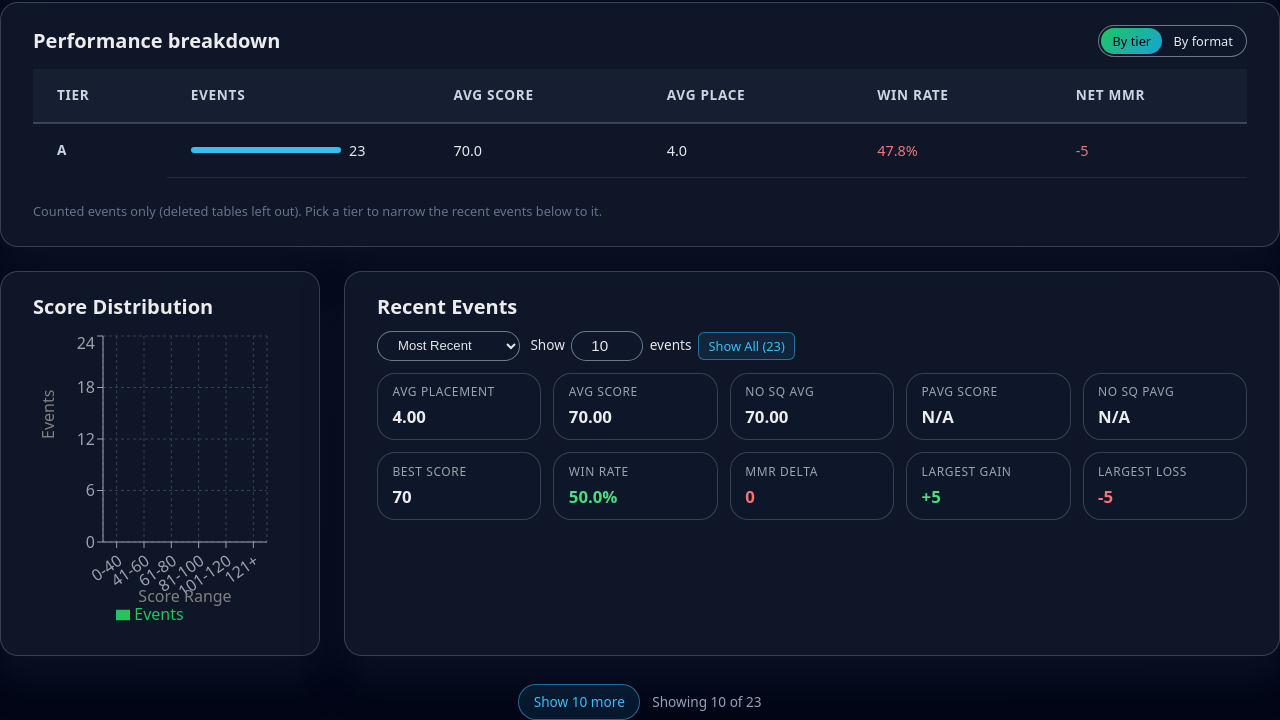
Test: PlayerDetailView show more events › adds 10 events at a time, then the remainder, then says there are no more
The image size is (1280, 720).
(page scrolled)
expect the text "Showing 10 of 23" is shown: met, box 652,692 -> 762,712
What coordinates should you click on to do the following:
click the button "Show 10 more"
I would click on:
 (579, 702)
Its box is 518,684 -> 640,719.
(page scrolled)
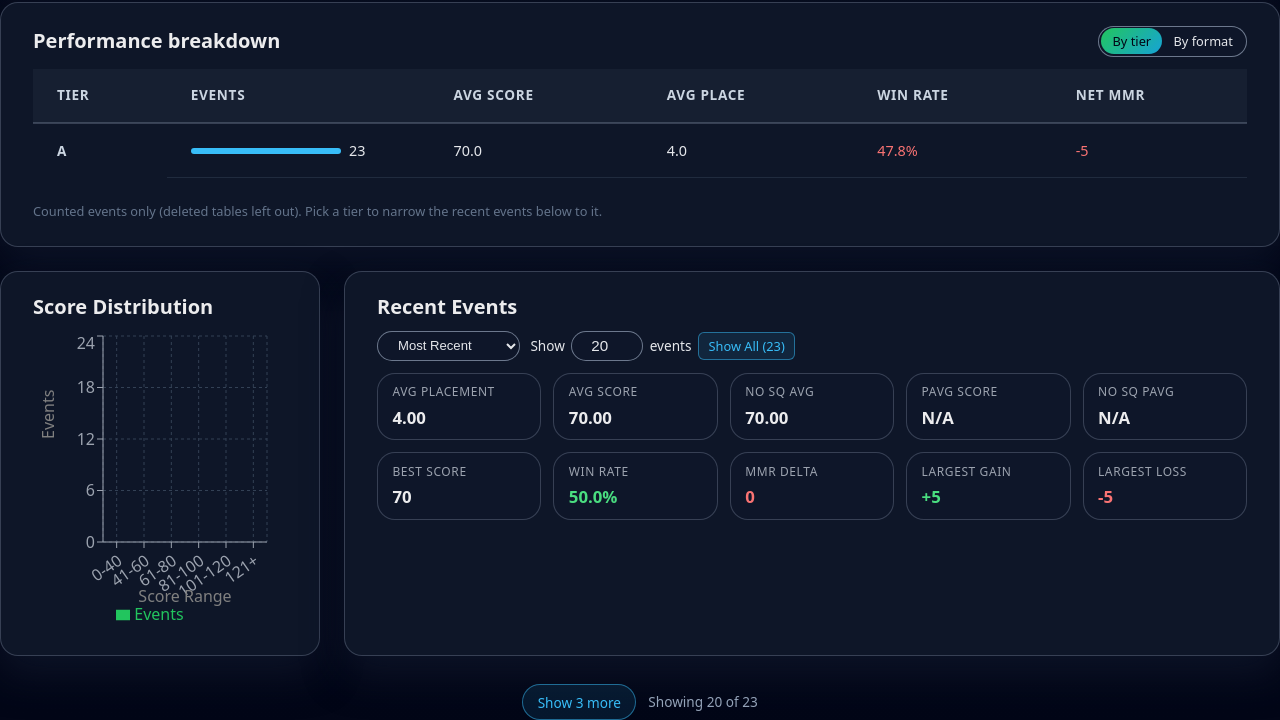
What coordinates should you click on to do the following:
click the button "Show 3 more"
I would click on:
 (579, 702)
Its box is 522,684 -> 636,719.
(page scrolled)
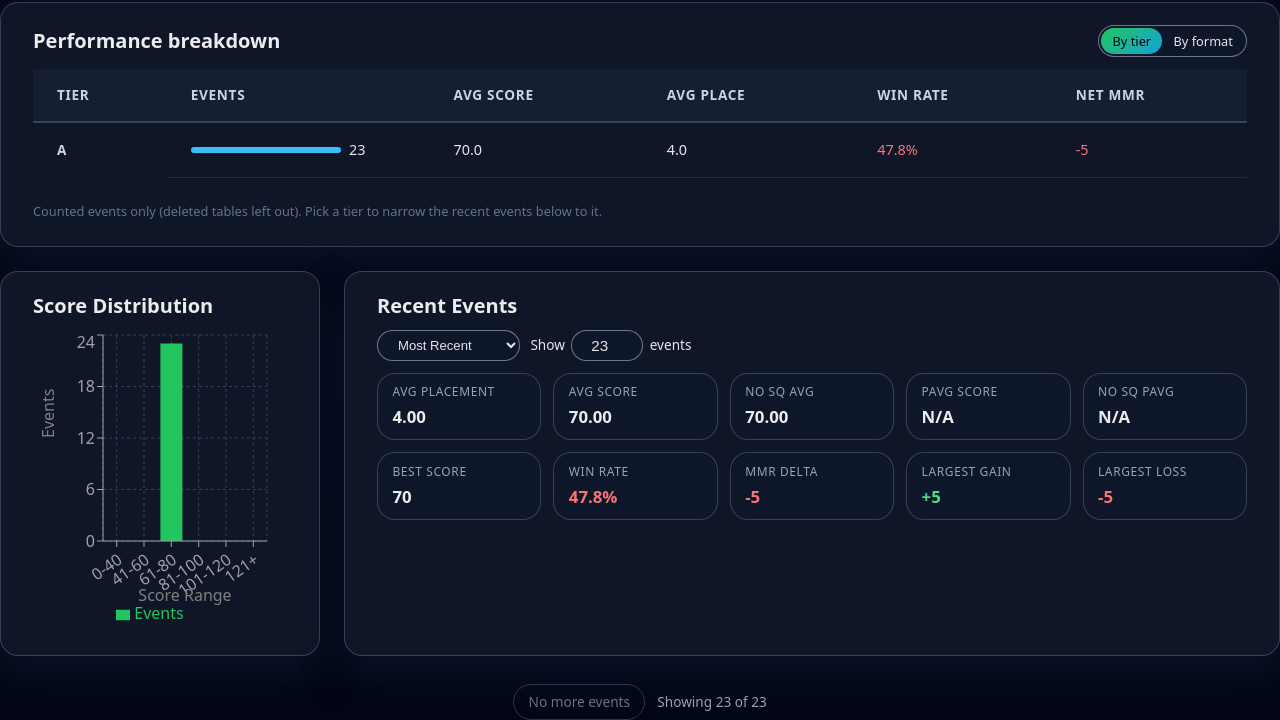
expect the button "No more events" is disabled: met, box 513,684 -> 645,719
expect the number field holds "23": met, box 571,330 -> 643,360
